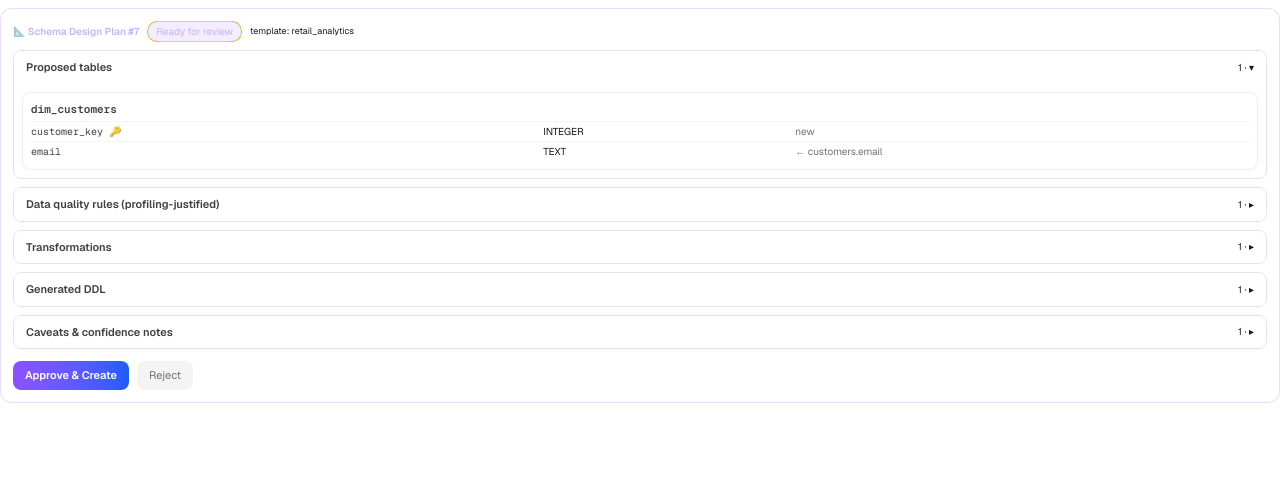
Test: SchemaDesignPlanCard › approve is two-step and posts to the approve endpoint
Click the button "Approve & Create". click: (71, 375)
box: [13,361,129,390]
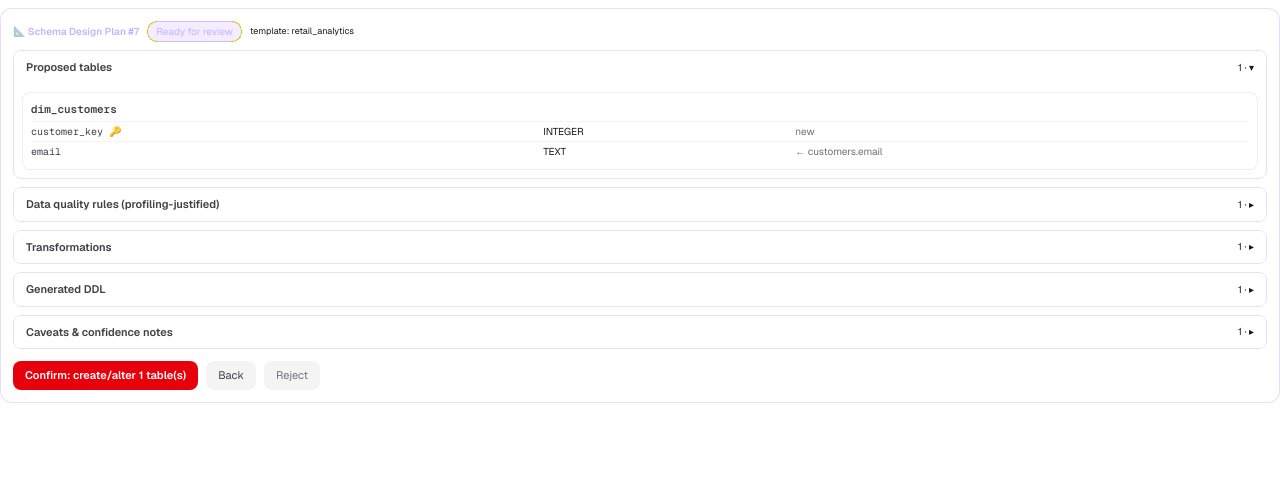
Click the button "Confirm: create/alter 1 table(s)". click: (106, 375)
box: [13,361,198,390]
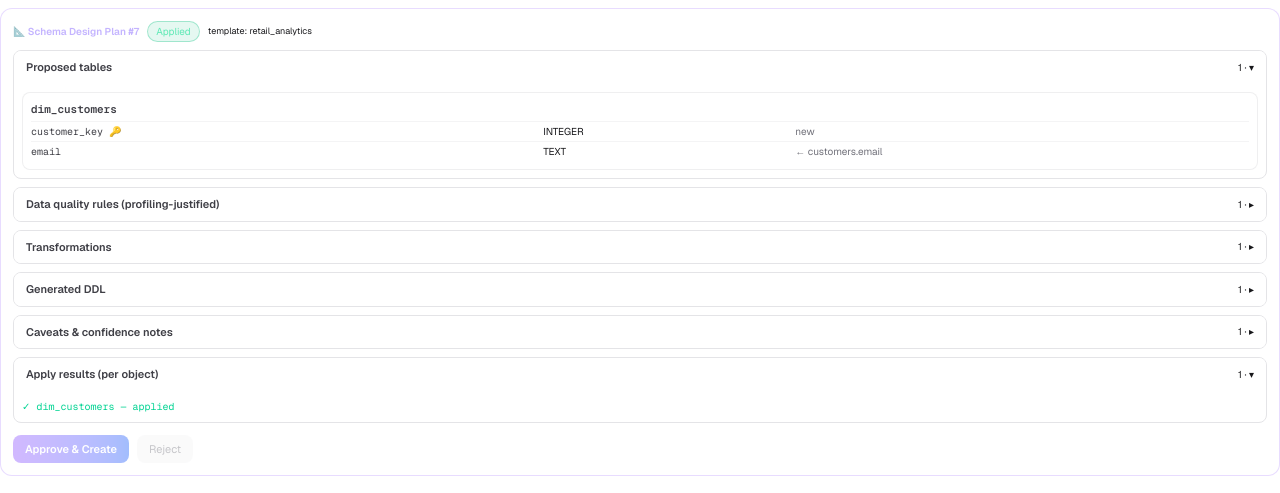
Now the text "Applied" is shown, box [147,21,200,42]
Now the text "✓ dim_customers — applied" is shown, box [22,400,174,412]
